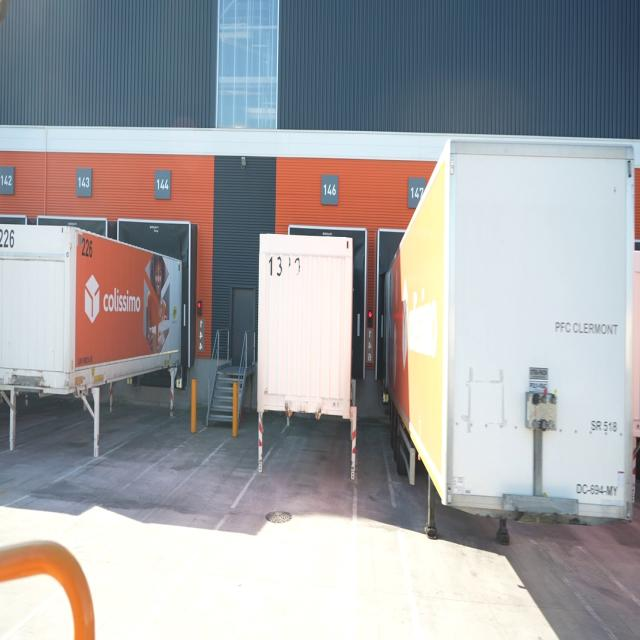Code: (0, 224, 20, 252), (80, 236, 96, 261)
